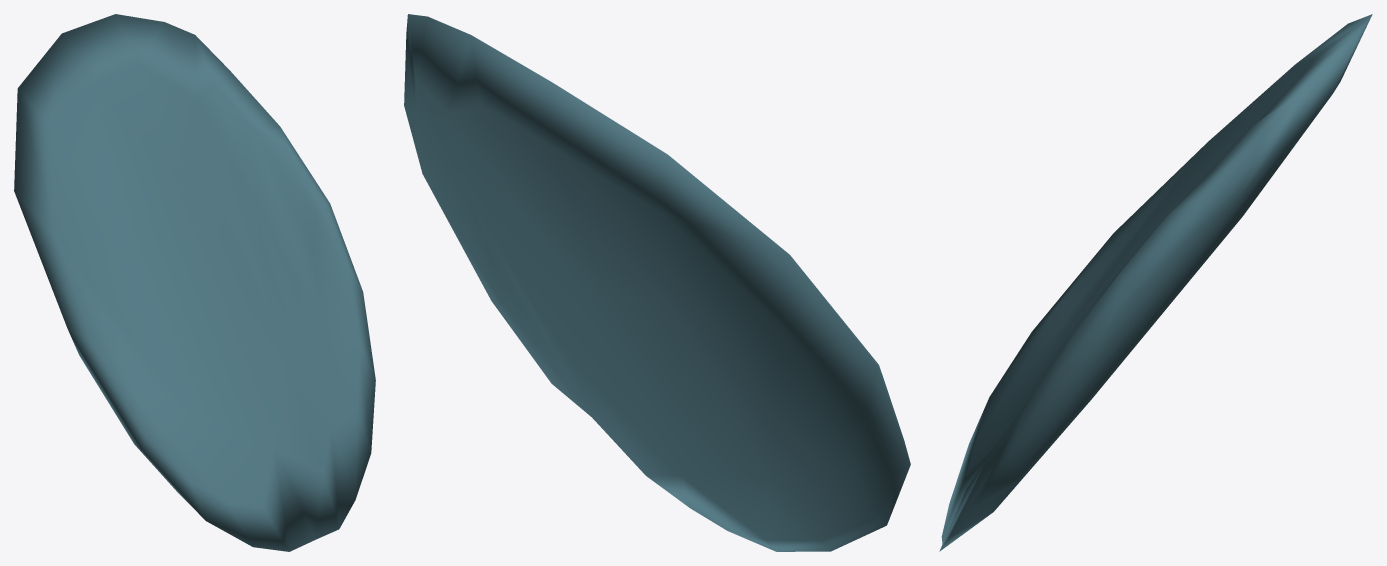
The model's file is Extensor_digitorum-middle_phalanx-5th_finger.r_Generated_Mesh_F.glb.
3 views of the same model, side by side, from view 1: azimuth 30°, elevation 25°; view 2: azimuth 150°, elevation 25°; view 3: azimuth 270°, elevation 25° (orthographic). The views are drawn at different scales.
Parts seen in each view (by area): view 1: Extensor_digitorum-middle_phalanx-5th_finger.r_Generated_Mes; view 2: Extensor_digitorum-middle_phalanx-5th_finger.r_Generated_Mes; view 3: Extensor_digitorum-middle_phalanx-5th_finger.r_Generated_Mes.
Part boxes in pixels (x1=…): Extensor_digitorum-middle_phalanx-5th_finger.r_Generated_Mes: x1=14, y1=14, x2=375, y2=551; Extensor_digitorum-middle_phalanx-5th_finger.r_Generated_Mes: x1=404, y1=14, x2=910, y2=551; Extensor_digitorum-middle_phalanx-5th_finger.r_Generated_Mes: x1=939, y1=14, x2=1372, y2=551.
Size of the model in its own units: 0.0036 by 0.00539 by 0.00419.
